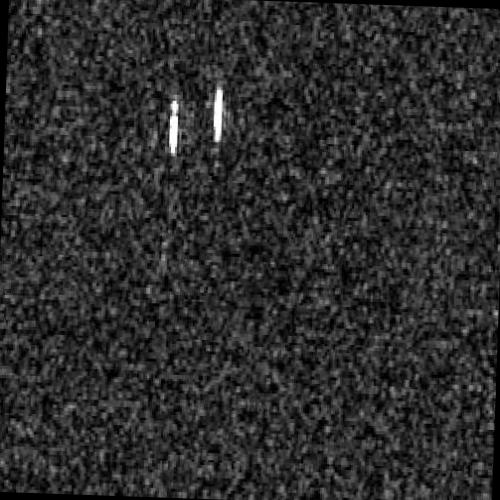ship: (212, 84, 223, 144), (168, 98, 179, 157)
